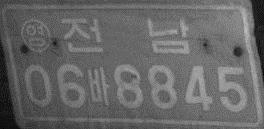0: (23, 64, 53, 108)
4: (183, 65, 213, 111)
5: (217, 66, 247, 112)
6: (56, 63, 86, 109)
8: (112, 63, 144, 109), (146, 64, 177, 110)
바: (87, 65, 110, 105)
영: (19, 19, 52, 53)
전남_D: (59, 16, 192, 56)
